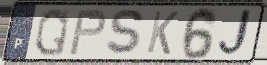6: (180, 5, 220, 61)
J: (216, 7, 257, 58)
K: (145, 9, 181, 56)
P: (67, 9, 108, 57)
Q: (33, 7, 71, 58)
S: (104, 8, 148, 58)
